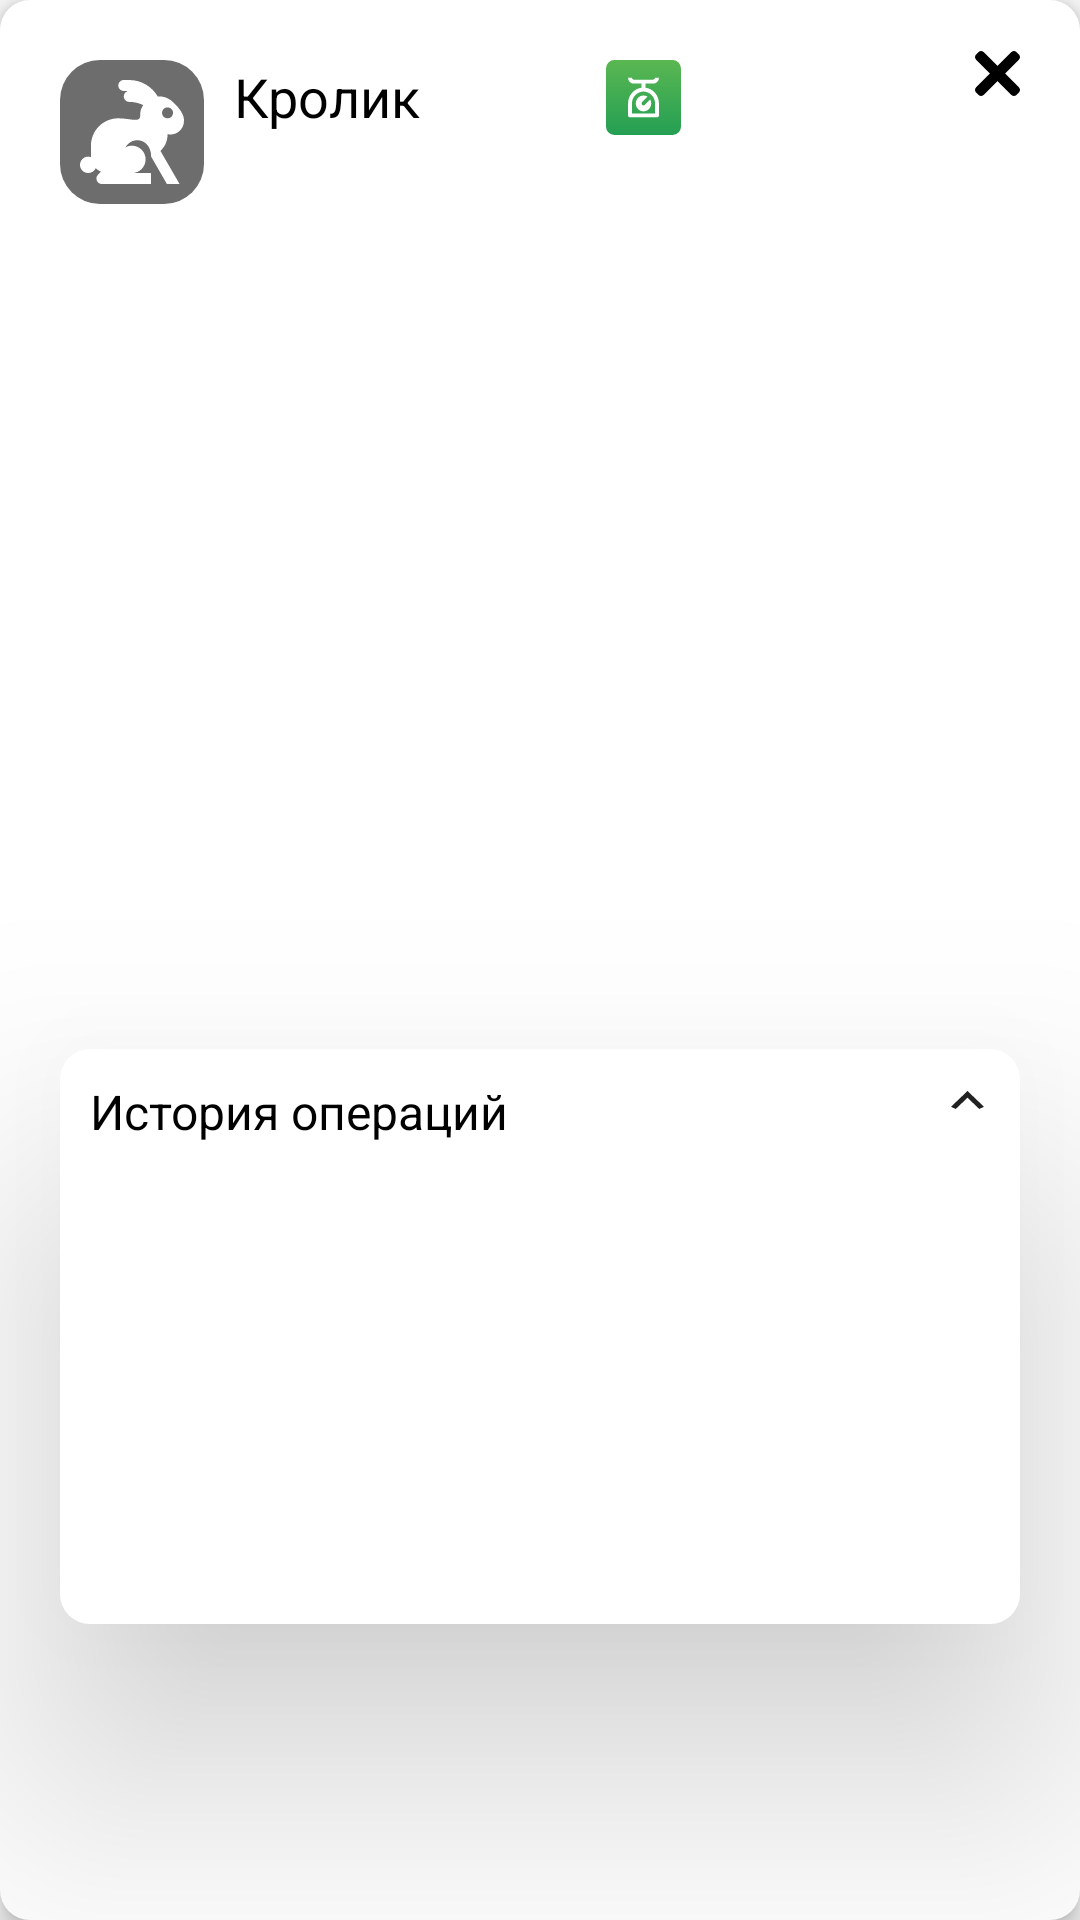

Named icons in this screenshot (1080px x 1920px) and their bounding boxes, (x1, y1, x2, y2):
close menu: (975, 51, 1020, 96)
rabbit label: (60, 60, 204, 204)
weigh: (606, 60, 681, 135)
